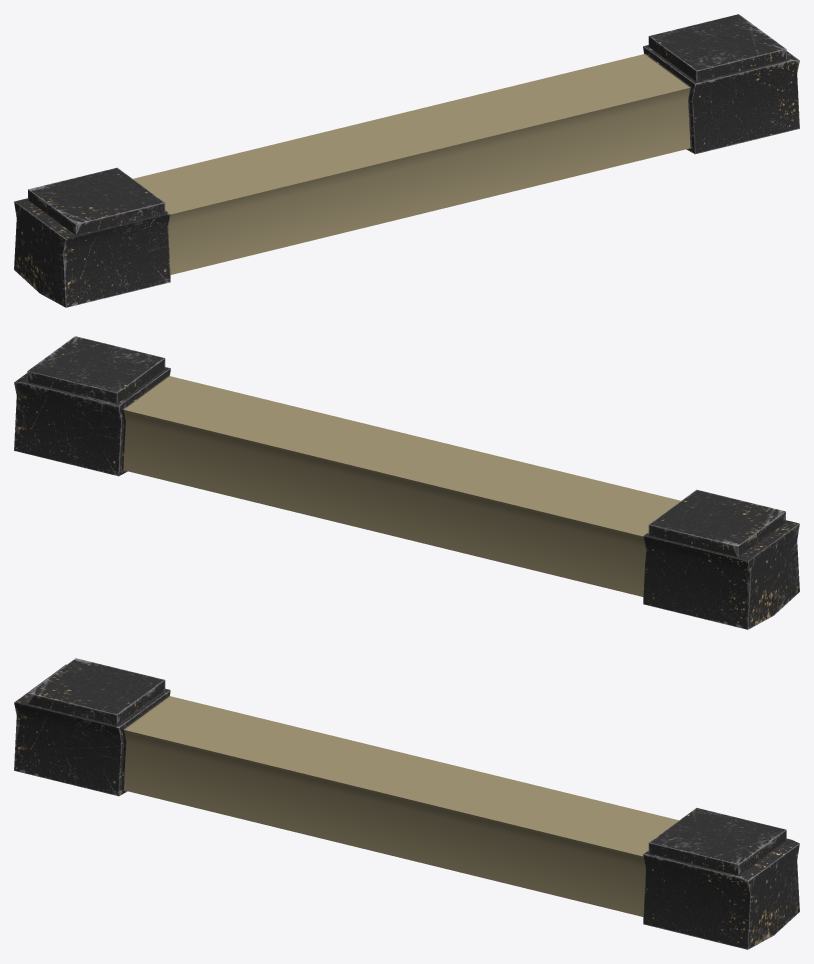
The model's file is lampe.obj.
The picture shows the model from 3 angles, top to bottom: view 1: azimuth 30°, elevation 25°; view 2: azimuth 150°, elevation 25°; view 3: azimuth 330°, elevation 25°; orthographic projection.
Visible parts, largest first — view 1: Cube.006_Cube.014; view 2: Cube.006_Cube.014; view 3: Cube.006_Cube.014.
Part boxes in pixels (x1,y1,x2,y2): Cube.006_Cube.014: [14, 14, 799, 307]; Cube.006_Cube.014: [14, 336, 799, 629]; Cube.006_Cube.014: [14, 658, 799, 949].
Size of the model in its own units: 22.5 by 2.51 by 2.76.
